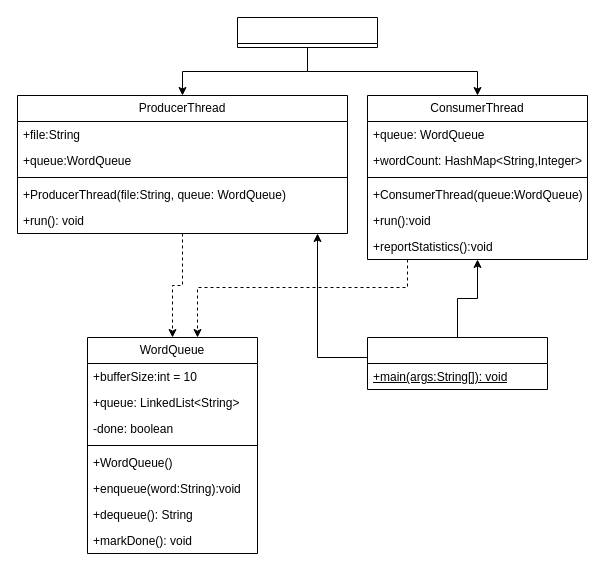
Image size: 605x574. Some labels were removed from this diagram. Here are the shapes that lost their labels. From the top down, the box of each, then its label:
(236, 16, 378, 48): Thread
(366, 336, 548, 390): Lab14
